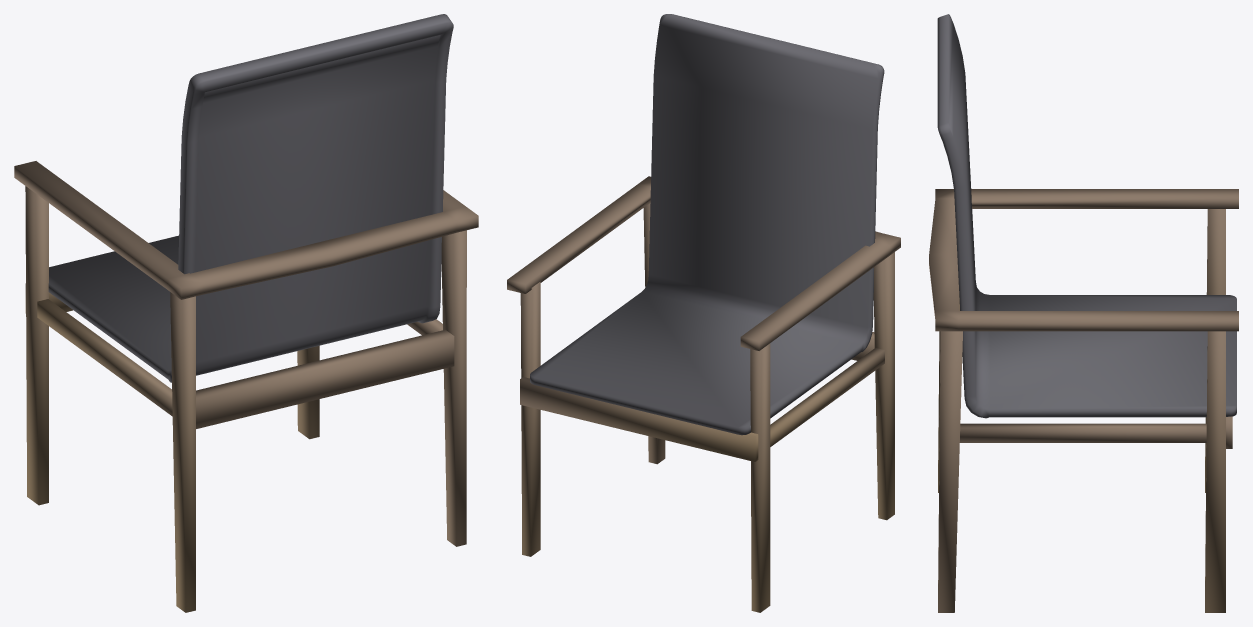
Rendered from Chair.fbx.
3 views of the same model, side by side, from view 1: azimuth 30°, elevation 25°; view 2: azimuth 150°, elevation 25°; view 3: azimuth 270°, elevation 25° (orthographic). The views are drawn at different scales.
Visible parts, largest first — view 1: Plane.028; view 2: Plane.028; view 3: Plane.028.
Part boxes in pixels (bbox=[...]): Plane.028: bbox=[14, 14, 478, 612]; Plane.028: bbox=[507, 14, 900, 612]; Plane.028: bbox=[929, 14, 1238, 612].
Size of the model in its own units: 1.34 by 1.33 by 2.28.
